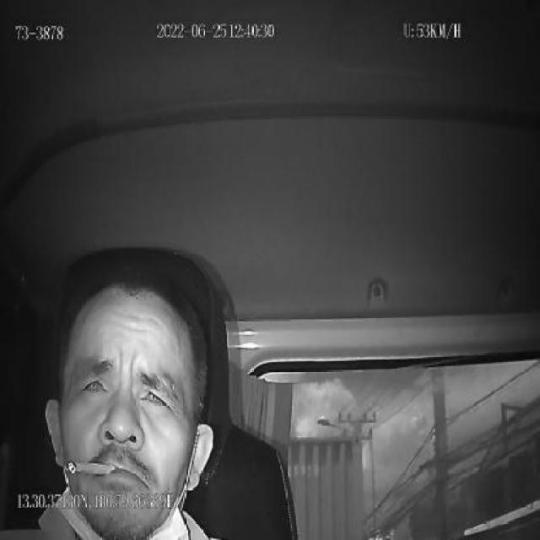smoking: (66, 457, 116, 476)
